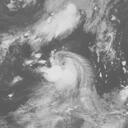cyclone: (42, 50, 94, 87)
